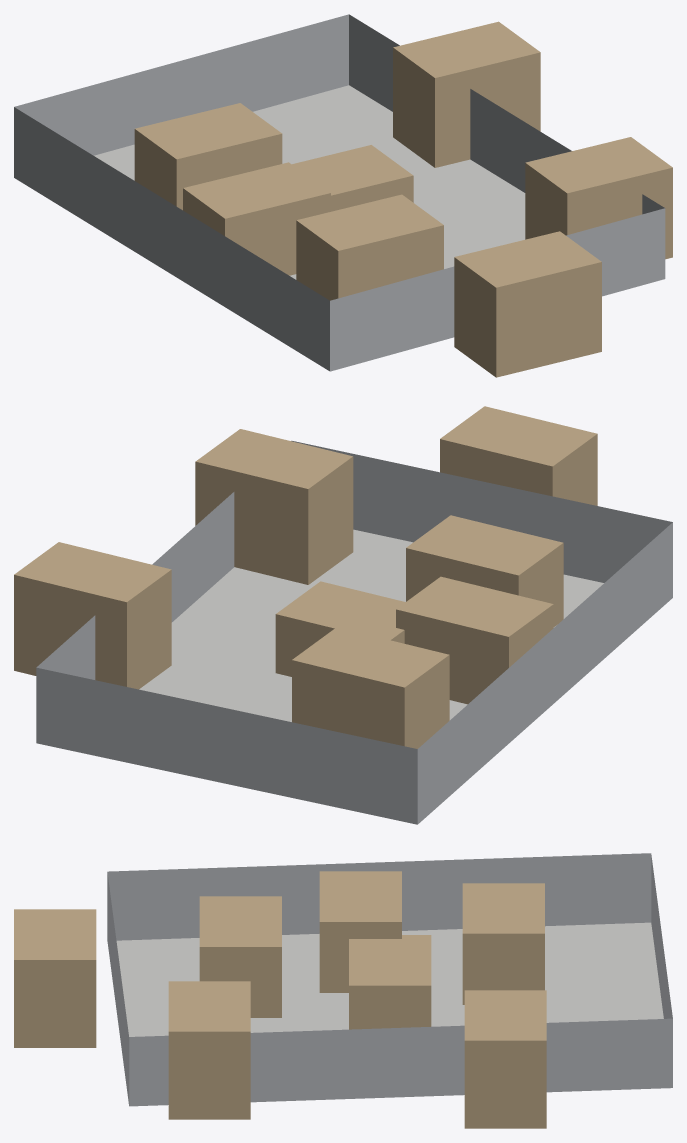
Rendered from qua.glb.
3 views of the same model, one above another, from view 1: azimuth 30°, elevation 25°; view 2: azimuth 150°, elevation 25°; view 3: azimuth 270°, elevation 25° (orthographic). The views are drawn at different scales.
Visible parts, largest first — view 1: qua crates, qua fence, qua pad; view 2: qua crates, qua fence, qua pad; view 3: qua crates, qua fence, qua pad.
Boxes of the visible parts, bbox=[...] form: qua crates: bbox=[134, 21, 672, 377]; qua fence: bbox=[14, 14, 665, 371]; qua pad: bbox=[94, 85, 525, 279]; qua crates: bbox=[14, 406, 597, 748]; qua fence: bbox=[36, 440, 672, 824]; qua pad: bbox=[139, 529, 603, 721]; qua crates: bbox=[14, 871, 546, 1128]; qua fence: bbox=[107, 853, 672, 1106]; qua pad: bbox=[116, 922, 663, 1036].
Size of the model in its own units: 13.06 by 2.6 by 17.63.
